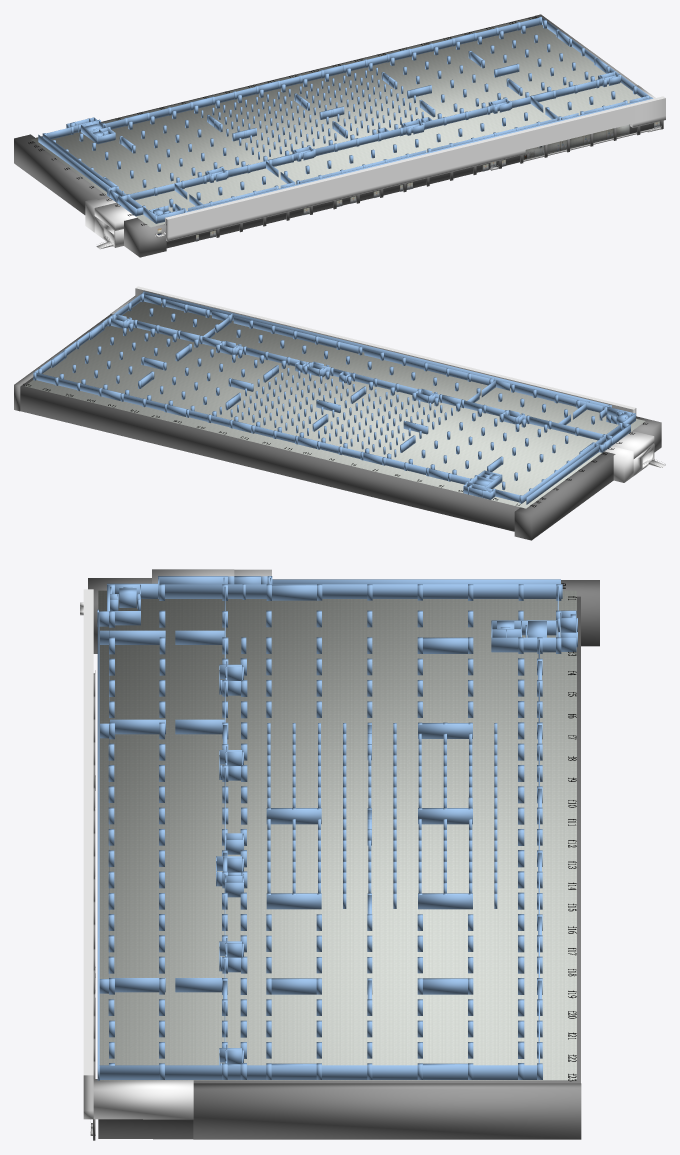
Rendered from 3f_mini.gltf.
3 renders of one model, top to bottom at view 1: azimuth 30°, elevation 25°; view 2: azimuth 150°, elevation 25°; view 3: azimuth 270°, elevation 25°, orthographic. The views are drawn at different scales.
Visible parts, largest first — view 1: fab_n1_dimian_25f, fab_n1_waiguan_25_50, fab_n1_waiguan_25_44, fab_n1_waiguan_25_46, fab_n1_qiang_25f, fab_n1_waiguan_25_42, fab_n1_qiang_25f_460, fab_n1_waiguan_25_22, fab_n1_qiang_25f_506, fab_n1_qiang_25f_431, fab_n1_qiang_25f_432, fab_n1_qiang_25f_469 (+6 smaller); view 2: fab_n1_dimian_25f, fab_n1_waiguan_25_46, fab_n1_waiguan_25_44, fab_n1_qiang_25f, fab_n1_waiguan_25_50, fab_n1_qiang_25f_460, fab_n1_qiang_25f_539, fab_n1_qiang_25f_538, fab_n1_waiguan_25_65, fab_n1_waiguan_25_22, fab_n1_qiang_25f_431, fab_n1_qiang_25f_463 (+6 smaller); view 3: fab_n1_dimian_25f, fab_n1_waiguan_25_45, fab_n1_qiang_25f_543, fab_n1_waiguan_25_50, fab_n1_waiguan_25_46, fab_n1_qiang_25f_432, fab_n1_waiguan_25_43, fab_n1_qiang_25f_431, fab_n1_waiguan_25_44, fab_n1_qiang_25f_460, fab_n1_qiang_25f_9, fab_n1_qiang_25f_4 (+6 smaller).
Boxes of the visible parts, x1=… form: fab_n1_dimian_25f: x1=31, y1=17, x2=640, y2=227; fab_n1_waiguan_25_50: x1=165, y1=96, x2=665, y2=241; fab_n1_waiguan_25_44: x1=14, y1=134, x2=108, y2=214; fab_n1_waiguan_25_46: x1=36, y1=16, x2=660, y2=248; fab_n1_qiang_25f: x1=105, y1=17, x2=539, y2=129; fab_n1_waiguan_25_42: x1=124, y1=218, x2=166, y2=257; fab_n1_qiang_25f_460: x1=187, y1=97, x2=653, y2=211; fab_n1_waiguan_25_22: x1=94, y1=202, x2=136, y2=230; fab_n1_qiang_25f_506: x1=315, y1=128, x2=399, y2=155; fab_n1_qiang_25f_431: x1=38, y1=134, x2=110, y2=191; fab_n1_qiang_25f_432: x1=42, y1=133, x2=141, y2=208; fab_n1_qiang_25f_469: x1=130, y1=176, x2=203, y2=200; fab_n1_dimian_25f: x1=25, y1=301, x2=645, y2=508; fab_n1_waiguan_25_46: x1=20, y1=377, x2=520, y2=531; fab_n1_waiguan_25_44: x1=514, y1=451, x2=615, y2=540; fab_n1_qiang_25f: x1=36, y1=373, x2=470, y2=484; fab_n1_waiguan_25_50: x1=135, y1=286, x2=636, y2=415; fab_n1_qiang_25f_460: x1=143, y1=291, x2=608, y2=410; fab_n1_qiang_25f_539: x1=233, y1=316, x2=362, y2=354; fab_n1_qiang_25f_538: x1=364, y1=348, x2=493, y2=385; fab_n1_waiguan_25_65: x1=604, y1=446, x2=633, y2=482; fab_n1_waiguan_25_22: x1=612, y1=431, x2=654, y2=458; fab_n1_qiang_25f_431: x1=526, y1=445, x2=598, y2=504; fab_n1_qiang_25f_463: x1=512, y1=384, x2=602, y2=412; fab_n1_dimian_25f: x1=98, y1=590, x2=576, y2=1080; fab_n1_waiguan_25_45: x1=193, y1=1083, x2=581, y2=1139; fab_n1_qiang_25f_543: x1=99, y1=1065, x2=542, y2=1079; fab_n1_waiguan_25_50: x1=83, y1=589, x2=93, y2=1119; fab_n1_waiguan_25_46: x1=98, y1=596, x2=580, y2=1139; fab_n1_qiang_25f_432: x1=165, y1=584, x2=562, y2=598; fab_n1_waiguan_25_43: x1=93, y1=1079, x2=193, y2=1119; fab_n1_qiang_25f_431: x1=272, y1=579, x2=560, y2=584; fab_n1_waiguan_25_44: x1=561, y1=580, x2=599, y2=646; fab_n1_qiang_25f_460: x1=97, y1=612, x2=99, y2=1080; fab_n1_qiang_25f_9: x1=266, y1=893, x2=321, y2=909; fab_n1_qiang_25f_4: x1=418, y1=893, x2=472, y2=909.
Bounding box in the file's own units: 349 × 19.87 × 144.
39 materials, 28 textured.
